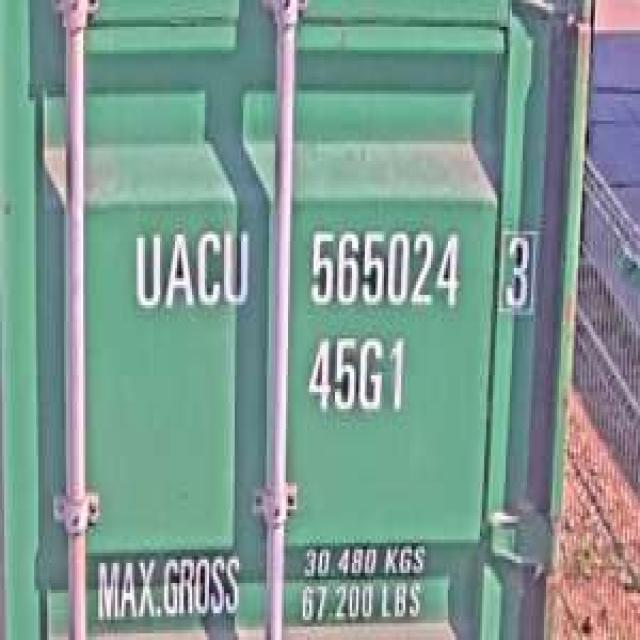dv: (497, 221, 540, 318)
owner: (126, 218, 254, 322)
serial: (301, 218, 463, 318)
size: (301, 328, 407, 426)
